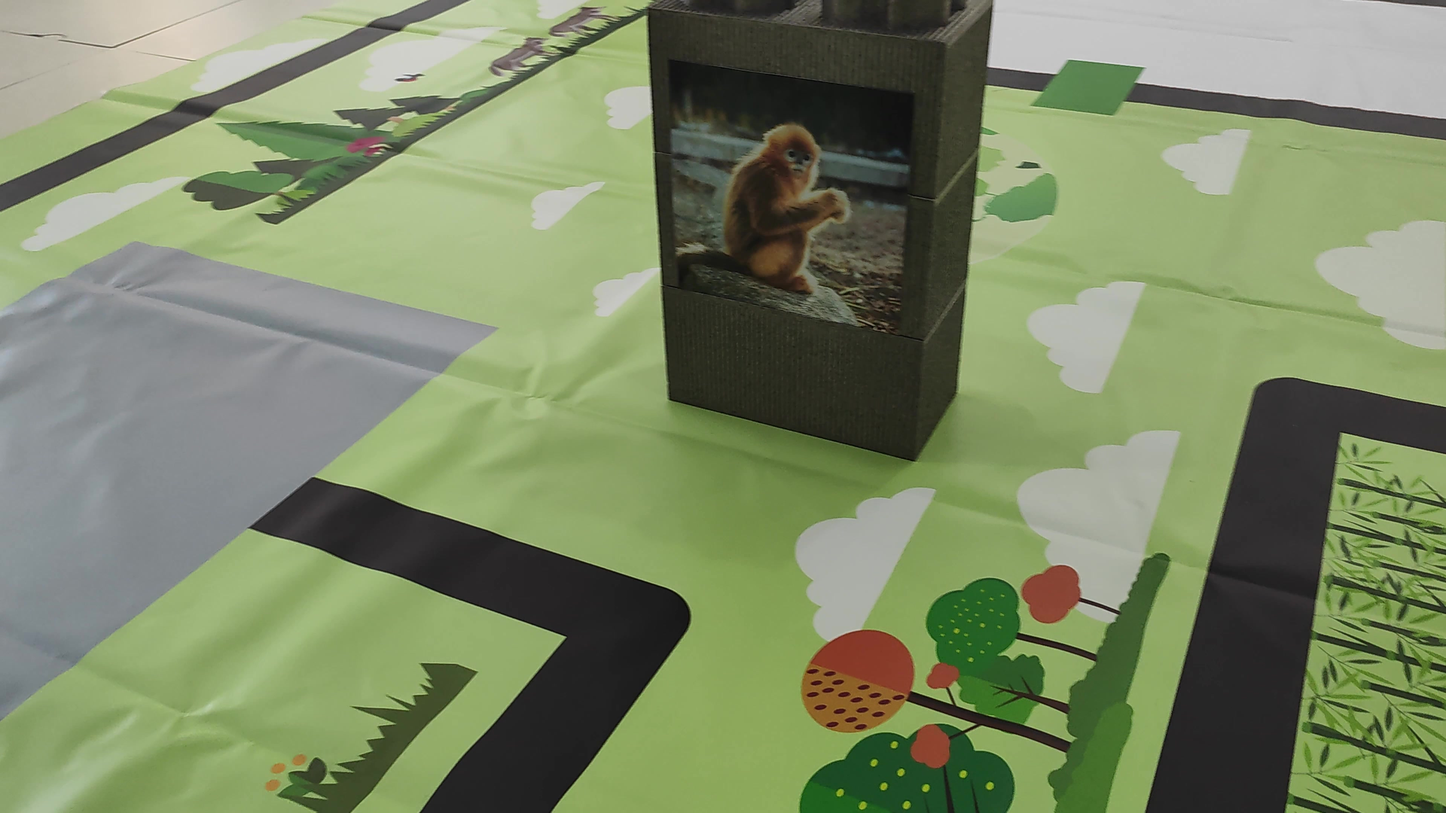monkey: (671, 91, 862, 315)
